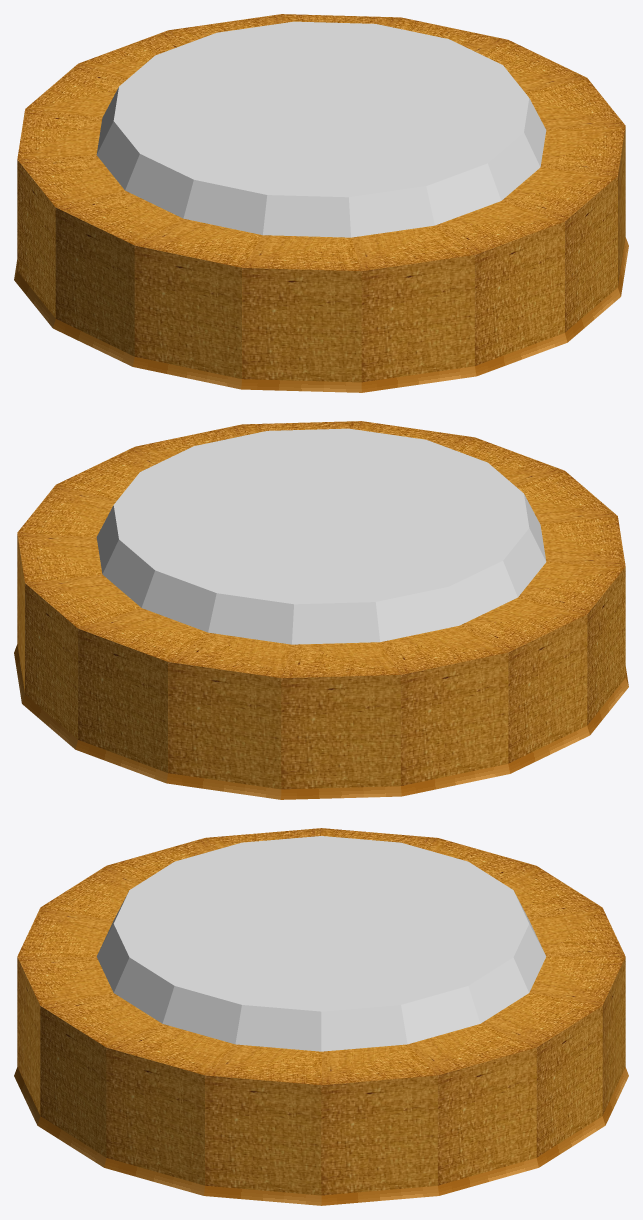
Rendered from light.glb.
The picture shows the model from 3 angles, top to bottom: view 1: azimuth 30°, elevation 25°; view 2: azimuth 150°, elevation 25°; view 3: azimuth 270°, elevation 25°; orthographic projection.
Parts seen in each view (by area): view 1: Cylinder; view 2: Cylinder; view 3: Cylinder.
Boxes of the visible parts, x1,y1,x2,y2 form: Cylinder: (14, 14, 628, 392); Cylinder: (14, 421, 628, 799); Cylinder: (14, 828, 628, 1205).
Bounding box in the file's own units: 2.02 × 0.552 × 2.02.
2 materials, 1 textured.
